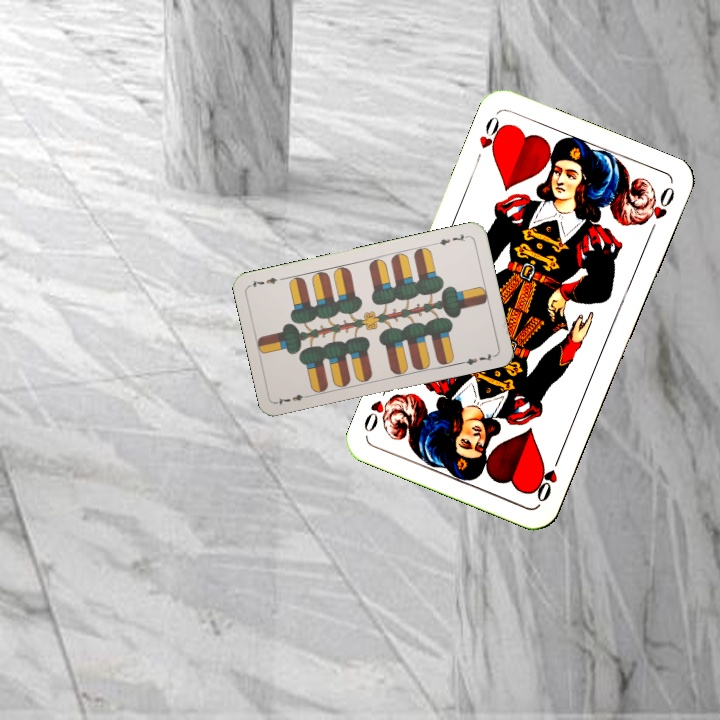E7: (431, 230, 471, 248), (273, 390, 313, 408)
HO: (531, 449, 564, 505), (475, 112, 508, 158)
